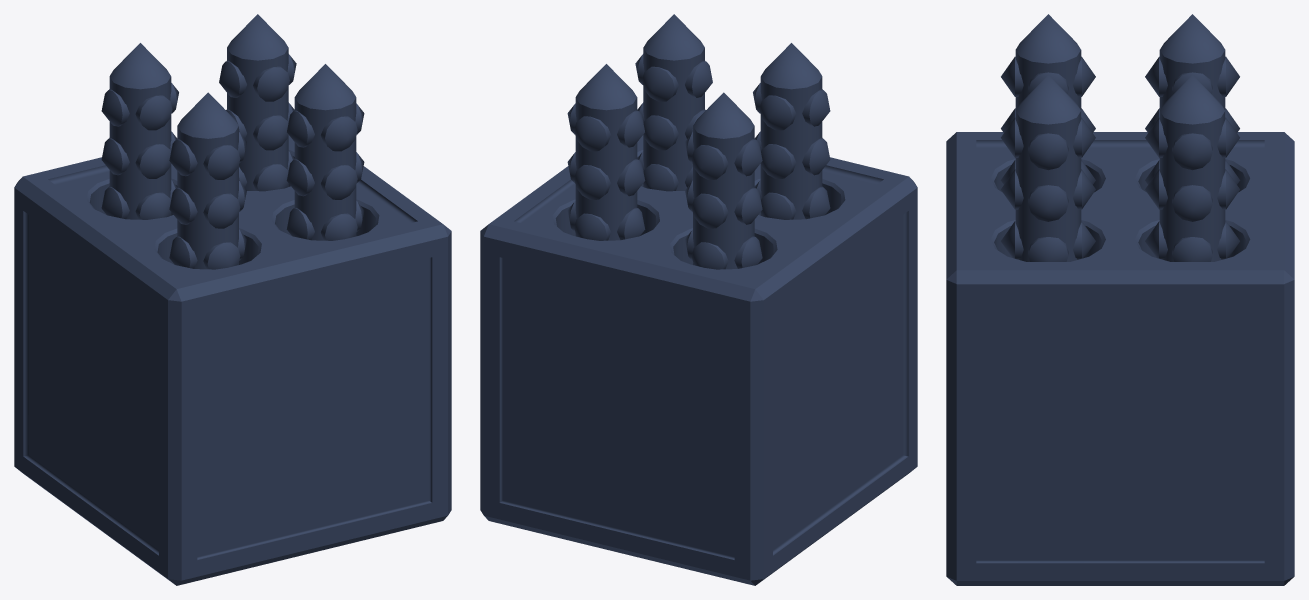
The model's file is spikeBlock_model 1.fbx.
3 renders of one model, left to right at view 1: azimuth 30°, elevation 25°; view 2: azimuth 150°, elevation 25°; view 3: azimuth 270°, elevation 25°, orthographic. The views are drawn at different scales.
Visible parts, largest first — view 1: spikeBlock, spikeBlock_Spikes; view 2: spikeBlock, spikeBlock_Spikes; view 3: spikeBlock, spikeBlock_Spikes.
Part boxes in pixels (<box>): spikeBlock: <box>14,135,451,585</box>; spikeBlock_Spikes: <box>101,14,364,269</box>; spikeBlock: <box>480,135,917,585</box>; spikeBlock_Spikes: <box>567,14,830,269</box>; spikeBlock: <box>946,132,1294,585</box>; spikeBlock_Spikes: <box>1000,14,1240,261</box>.
Size of the model in its own units: 2.5 by 3.74 by 2.5.
